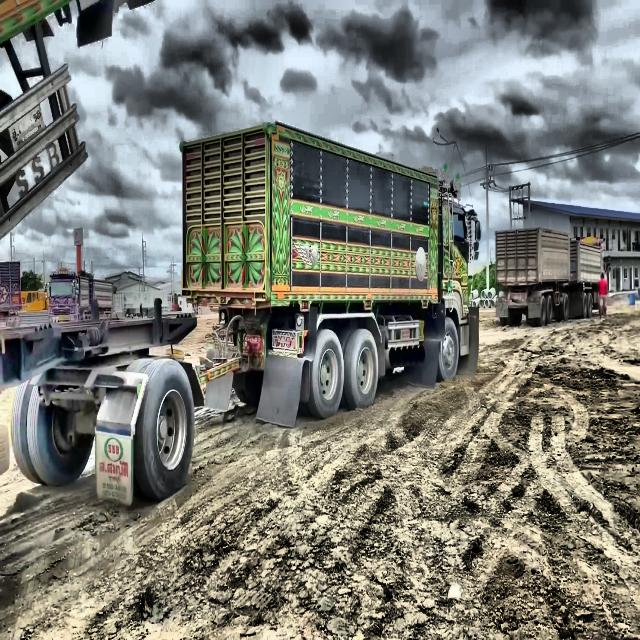trailer: (0, 1, 476, 512), (494, 227, 610, 321)
